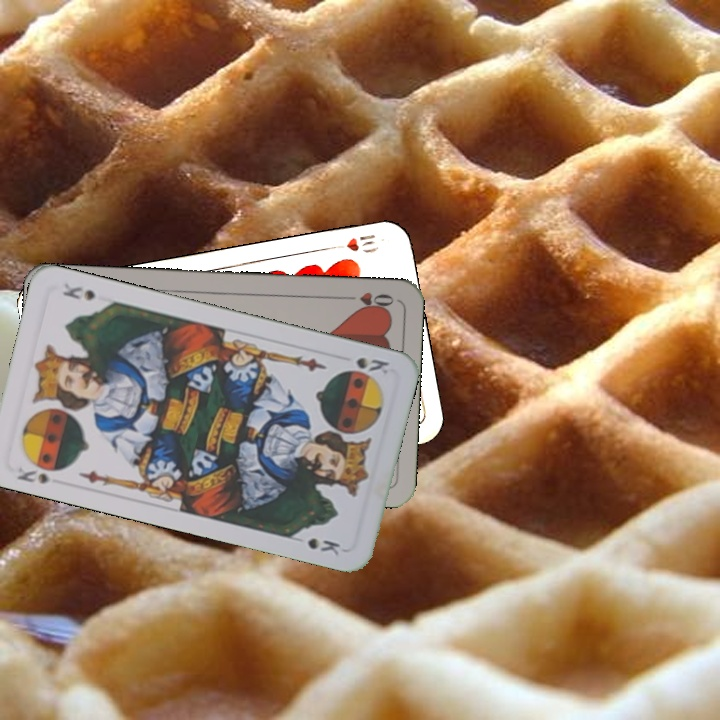H10: (327, 230, 382, 256)
HO: (338, 288, 396, 313)
SK: (342, 353, 392, 379), (13, 463, 53, 487)
